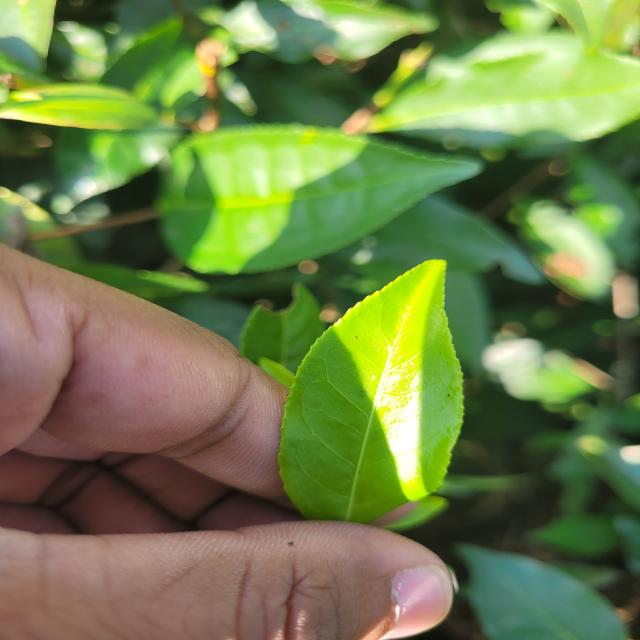Catagory A(1-2 days): (266, 248, 482, 535)
